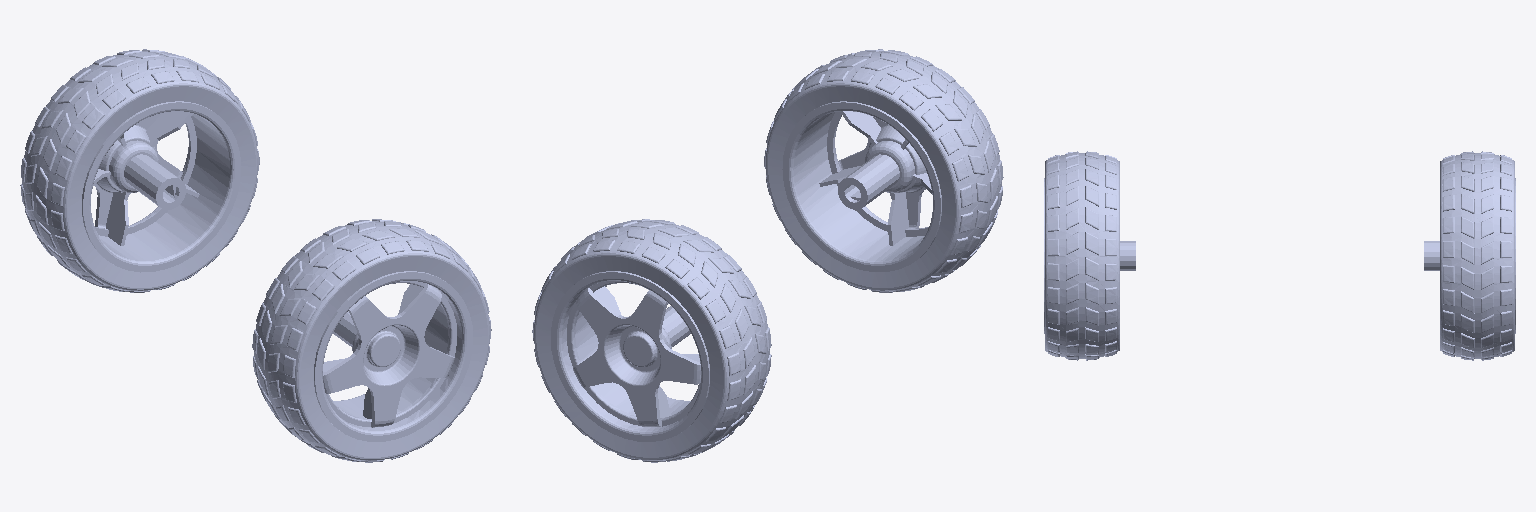
The robot description file, URDF, robot "Atlas":
<?xml version="1.0" encoding="utf-8"?>
<!-- This URDF was automatically created by SolidWorks to URDF Exporter! Originally created by [author] ([email redacted]) 
     Commit Version: 1.6.0-1-g15f4949  Build Version: 1.6.7594.29634
     For more information, please see http://wiki.ros.org/sw_urdf_exporter -->
<robot
  name="Atlas">
  <link
    name="base">
    <inertial>
      <origin
        xyz="-0.000212909415452442 0.0141353979927346 0.0286449785299869"
        rpy="0 0 -1.5708" />
      <mass
        value="0.499281541152724" />
      <inertia
        ixx="0.0003977555784519"
        ixy="-1.28352546731864E-06"
        ixz="-1.07524080810202E-08"
        iyy="0.000455844917654945"
        iyz="3.25184720260079E-07"
        izz="0.000828962036935886" />
    </inertial>
    <visual>
      <origin
        xyz="0 0 0"
        rpy="0 0 -1.5708" />
      <geometry>
        <mesh
          filename="package://atlas_description/meshes/base_link.STL" />
      </geometry>
      <material
        name="">
        <color
          rgba="0.792156862745098 0.819607843137255 0.933333333333333 1" />
      </material>
    </visual>
    <collision>
      <origin
        xyz="0 0 0"
        rpy="0 0 -1.5708" />
      <geometry>
        <mesh
          filename="package://atlas_description/meshes/base_link.STL" />
      </geometry>
    </collision>
  </link>
  <link
    name="lwheel">
    <inertial>
      <origin
        xyz="-1.87554312358618E-10 1.86289956377594E-08 0.018127012381905"
        rpy="0 0 0" />
      <mass
        value="0.166945648009266" />
      <inertia
        ixx="6.72926923359967E-05"
        ixy="2.20526901917458E-10"
        ixz="9.50965859543208E-15"
        iyy="6.72964003560096E-05"
        iyz="-3.21802216170622E-12"
        izz="0.000113206411587865" />
    </inertial>
    <visual>
      <origin
        xyz="0 0 0"
        rpy="0 0 0" />
      <geometry>
        <mesh
          filename="package://atlas_description/meshes/lwheel_link.STL" />
      </geometry>
      <material
        name="">
        <color
          rgba="0.792156862745098 0.819607843137255 0.933333333333333 1" />
      </material>
    </visual>
    <collision>
      <origin
        xyz="0 0 0"
        rpy="0 0 0" />
      <geometry>
        <mesh
          filename="package://atlas_description/meshes/lwheel_link.STL" />
      </geometry>
    </collision>
  </link>
  <joint
    name="lwheel_joint"
    type="fixed">
    <origin
      xyz="0.0459 0.0476 -0.013"
      rpy="1.5708 0 -3.1415" />
    <parent
      link="base" />
    <child
      link="lwheel" />
    <axis
      xyz="0 0 1" />
  </joint>
  <link
    name="rwheel">
    <inertial>
      <origin
        xyz="1.86223433409904E-08 -6.26257727967539E-10 0.0181270123819041"
        rpy="0 0 0" />
      <mass
        value="0.166945648008949" />
      <inertia
        ixx="6.72963740376347E-05"
        ixy="-3.81485680665361E-10"
        ixz="-3.20558006910943E-12"
        iyy="6.72927186542622E-05"
        iyz="1.10863396748118E-13"
        izz="0.000113206411587755" />
    </inertial>
    <visual>
      <origin
        xyz="0 0 0"
        rpy="0 0 0" />
      <geometry>
        <mesh
          filename="package://atlas_description/meshes/rwheel_link.STL" />
      </geometry>
      <material
        name="">
        <color
          rgba="0.792156862745098 0.819607843137255 0.933333333333333 1" />
      </material>
    </visual>
    <collision>
      <origin
        xyz="0 0 0"
        rpy="0 0 0" />
      <geometry>
        <mesh
          filename="package://atlas_description/meshes/rwheel_link.STL" />
      </geometry>
    </collision>
  </link>
  <joint
    name="rwheel_joint"
    type="fixed">
    <origin
      xyz="0.0459 -0.0476 -0.013"
      rpy="1.5708 0 0"  />
    <parent
      link="base" />
    <child
      link="rwheel" />
    <axis
      xyz="0 0 1" />
  </joint>
</robot>

--- What the picture shows (computed from the rendered views, not written in the file) ---
The picture shows the robot from 3 angles, left to right: view 1: azimuth 30°, elevation 25°; view 2: azimuth 150°, elevation 25°; view 3: azimuth 270°, elevation 25°; orthographic projection.
Model Atlas with 3 links and 2 joints (2 fixed), rooted at base, posed every joint at zero.
Links seen in each view (by area): view 1: lwheel, rwheel; view 2: lwheel, rwheel; view 3: rwheel, lwheel.
Boxes of the visible links, left/top/right/bottom form: lwheel: left=20, top=49, right=259, bottom=292; rwheel: left=252, top=219, right=491, bottom=462; lwheel: left=532, top=219, right=771, bottom=462; rwheel: left=764, top=49, right=1003, bottom=292; rwheel: left=1044, top=151, right=1135, bottom=360; lwheel: left=1424, top=151, right=1515, bottom=360.
Bounding box of the posed robot: 0.0689 × 0.1552 × 0.0689 m (x, y, z).
Meshes: 3 distinct files referenced, 2 mesh visuals loaded (2 binary STL); not drawn: 1 (reference not matched to a file when rendering).